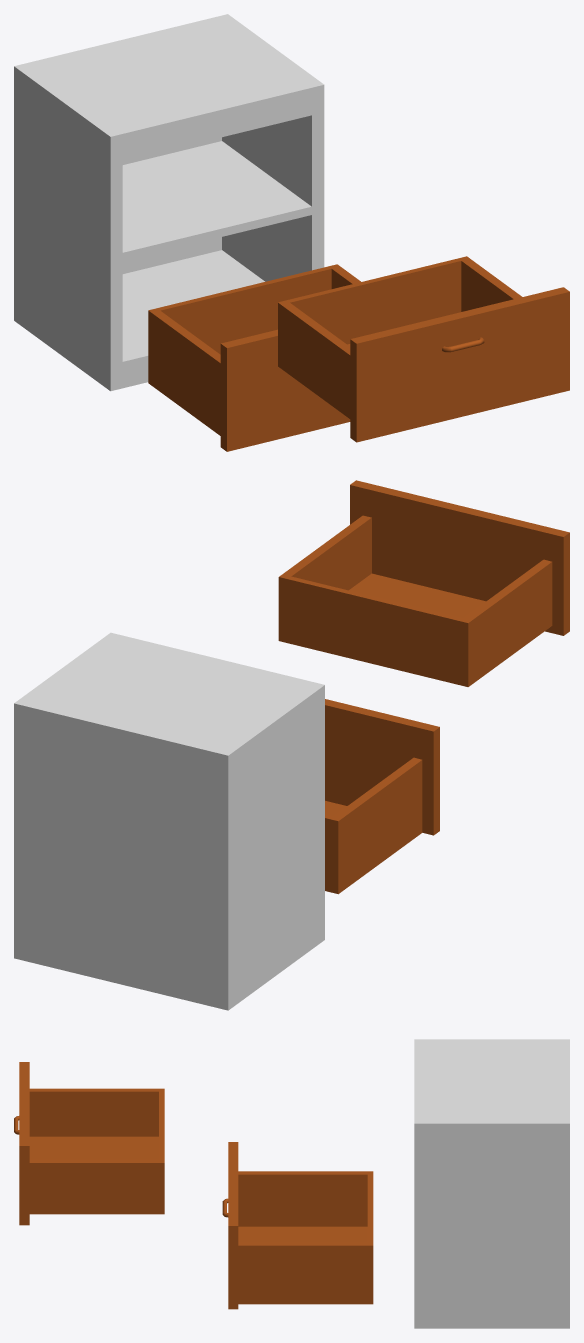
The model's file is drawer2_uv.fbx.
The picture shows the model from 3 angles, top to bottom: view 1: azimuth 30°, elevation 25°; view 2: azimuth 150°, elevation 25°; view 3: azimuth 270°, elevation 25°; orthographic projection. The views are drawn at different scales.
Visible parts, largest first — view 1: Box030, Object015, Object016; view 2: Box030, Object015, Object016; view 3: Box030, Object016, Object015.
Boxes of the visible parts, x1=… form: Box030: x1=14, y1=14, x2=324, y2=391; Object015: x1=278, y1=256, x2=569, y2=442; Object016: x1=148, y1=264, x2=360, y2=451; Box030: x1=14, y1=632, x2=324, y2=1010; Object015: x1=278, y1=480, x2=569, y2=686; Object016: x1=325, y1=699, x2=439, y2=894; Box030: x1=414, y1=1039, x2=569, y2=1328; Object016: x1=222, y1=1142, x2=373, y2=1309; Object015: x1=14, y1=1062, x2=164, y2=1225.
Size of the model in its own units: 67.28 by 76.37 by 188.
